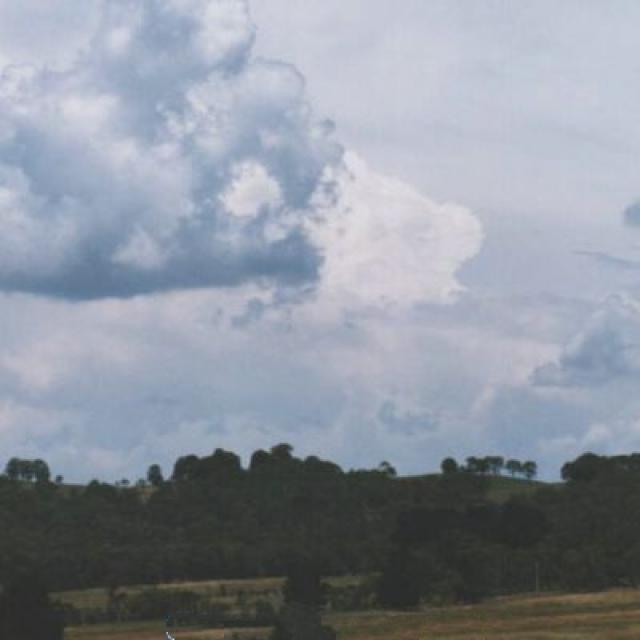Cs: (1, 18, 640, 388)
